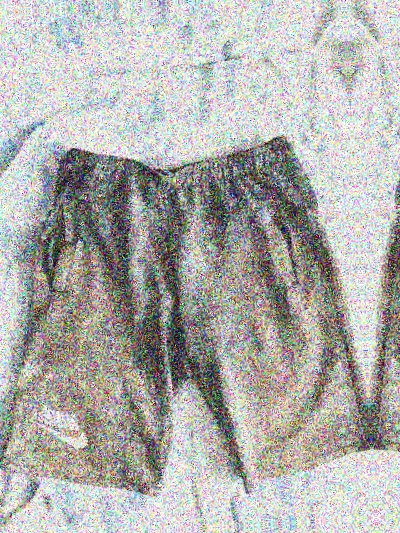Pants: (0, 108, 374, 510), (352, 85, 400, 487), (379, 526, 400, 533)
